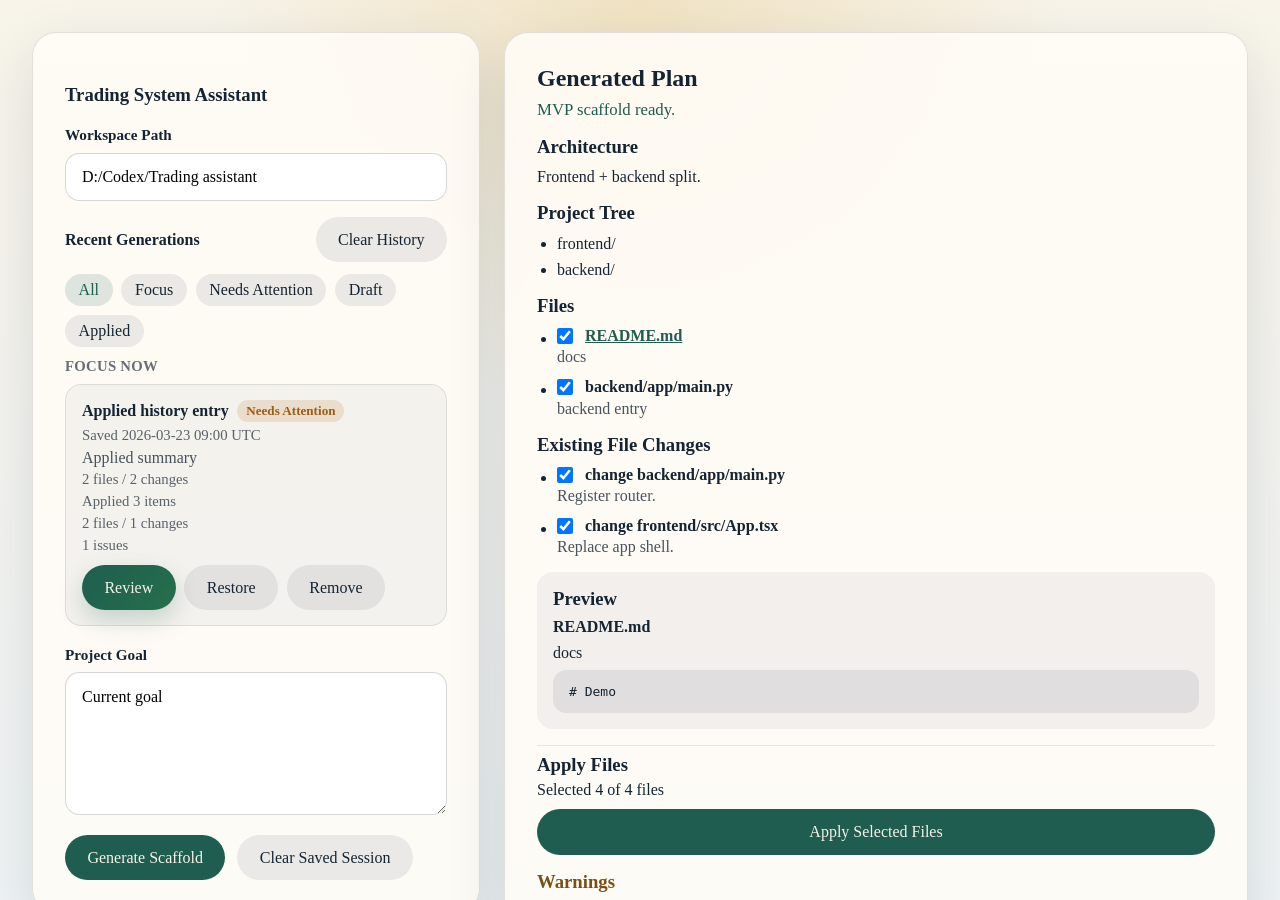
Scenario: App › shows apply summary metadata for a generation history entry when available
Expected: the text "Needs Attention" is shown, 238,400 -> 344,422
Expected: the text "Applied 3 items" is shown, 82,493 -> 176,509
Click the button with aria-label "review applied history entry" at [129, 588], box 82,565 -> 176,610
(page scrolled)
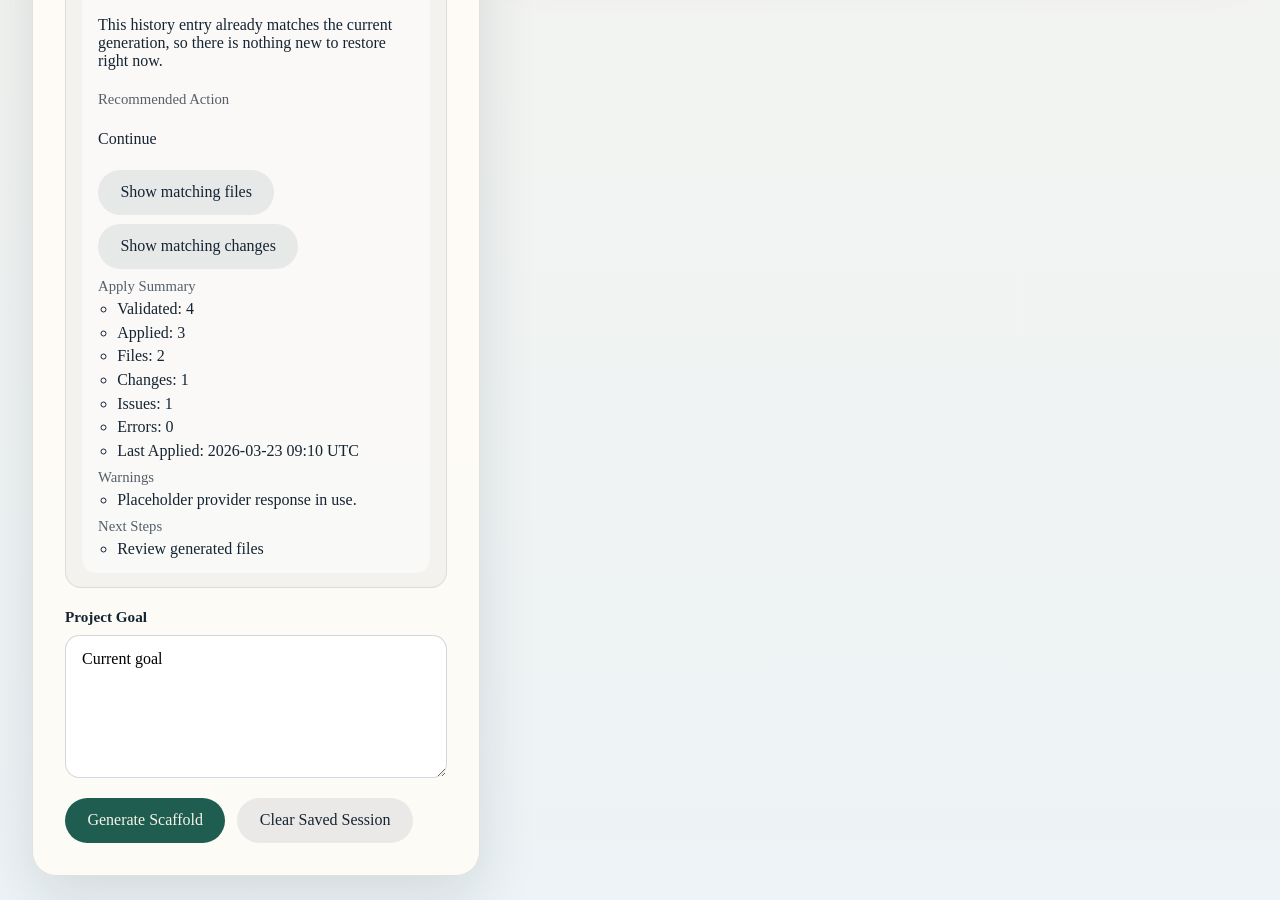
Expected: the text "Apply Summary" is shown, 98,278 -> 196,294
Expected: the list item "Validated: 4" is shown, 117,300 -> 194,317
Expected: the list item "Applied: 3" is shown, 117,324 -> 185,341
